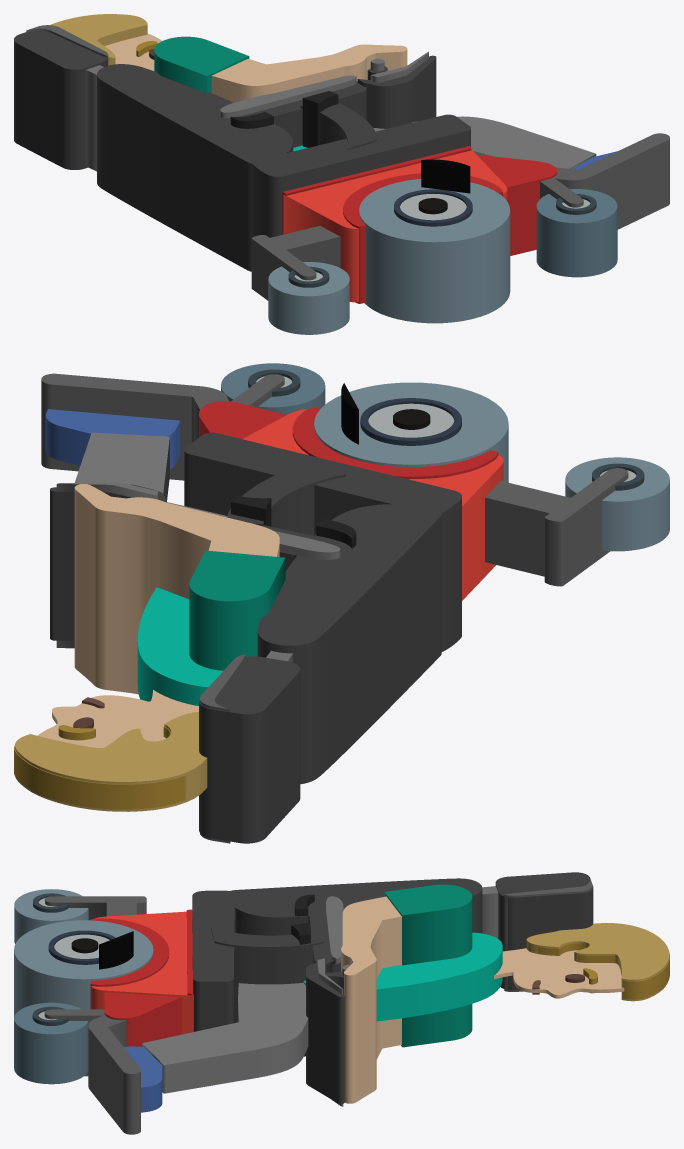
The model's file is emoji_u1f468_1f3fc_200d_1f9bc_200d_27a1.glb.
3 renders of one model, top to bottom at view 1: azimuth 30°, elevation 25°; view 2: azimuth 150°, elevation 25°; view 3: azimuth 270°, elevation 25°, orthographic. The views are drawn at different scales.
Visible parts, largest first — view 1: emoji_u1f468_1f3fc_200d_1f9bc_200d_27a1; view 2: emoji_u1f468_1f3fc_200d_1f9bc_200d_27a1; view 3: emoji_u1f468_1f3fc_200d_1f9bc_200d_27a1.
Part boxes in pixels (box(x1,y1,x2,y2)): emoji_u1f468_1f3fc_200d_1f9bc_200d_27a1: box(14, 14, 669, 334); emoji_u1f468_1f3fc_200d_1f9bc_200d_27a1: box(14, 363, 669, 843); emoji_u1f468_1f3fc_200d_1f9bc_200d_27a1: box(14, 872, 669, 1134).
Size of the model in its own units: 0.0237 by 0.0074 by 0.0333.
